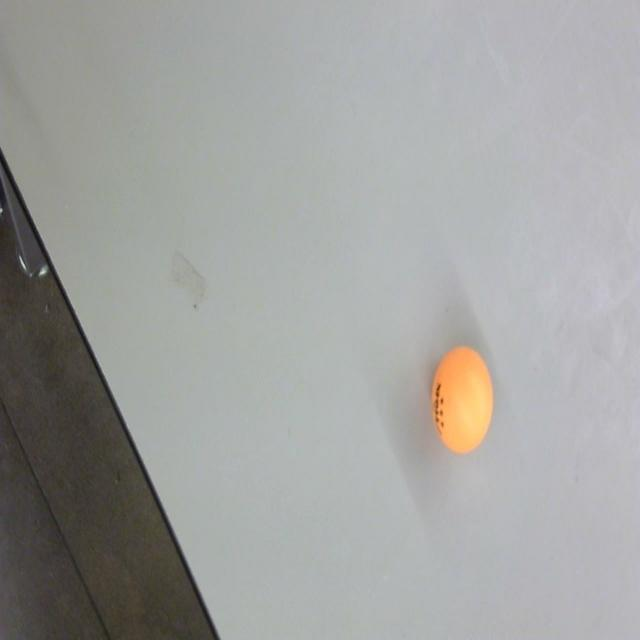ball: (430, 346, 494, 453)
